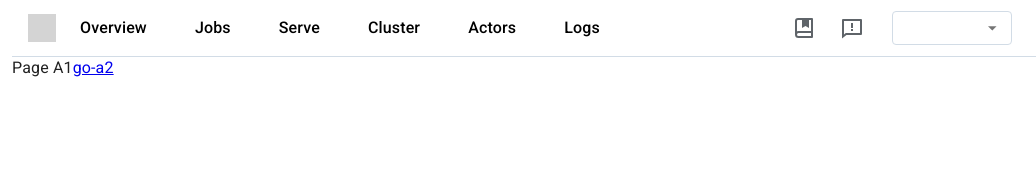
Test: MainNavLayout › navigates and renders breadcrumbs correctly
Expected: the text "Page A1 go-a2" is shown, [12, 58, 114, 77]
Expected: the text "breadcrumb-a1" is not shown
Click the link "go-a2". click: (93, 68)
box: [73, 58, 114, 77]
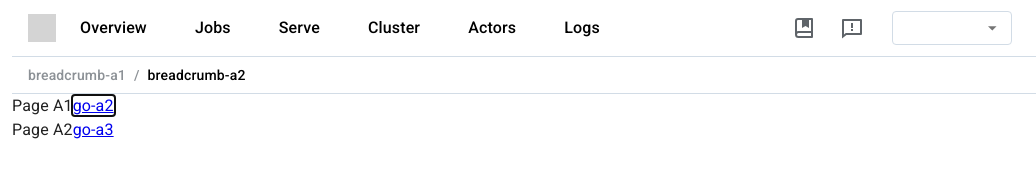
Now the text "Page A2 go-a3" is shown, box [12, 120, 114, 139]
Now the link "breadcrumb-a1" is shown, box [28, 67, 126, 83]
Now the link "breadcrumb-a2" is shown, box [148, 67, 246, 83]
Click the link "go-a3". click: (93, 130)
box: [73, 120, 114, 139]
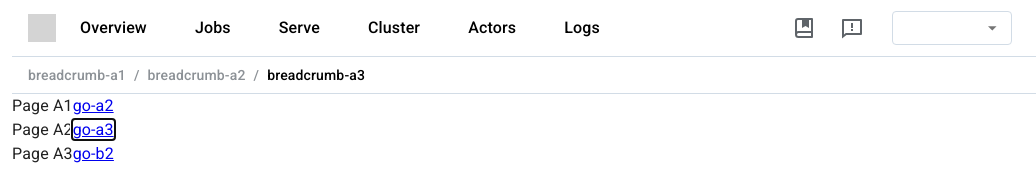
Now the link "breadcrumb-a1" is shown, box [28, 67, 126, 83]
Now the link "breadcrumb-a2" is shown, box [148, 67, 246, 83]
Now the text "Page A3 go-b2" is shown, box [12, 144, 114, 163]
Click the link "go-b2". click: (93, 154)
box: [73, 144, 114, 163]
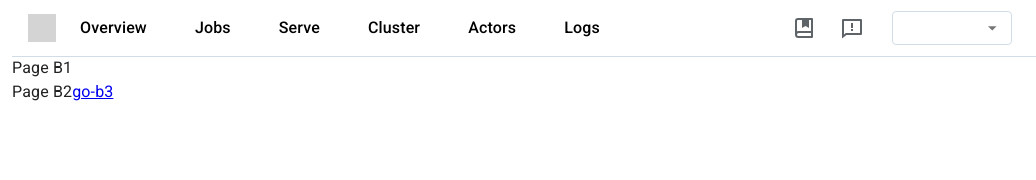
Expected: the text "breadcrumb-b1" is not shown
Now the text "Page B2 go-b3" is shown, box [12, 82, 113, 101]
Click the link "go-b3". click: (93, 92)
box: [72, 82, 114, 101]
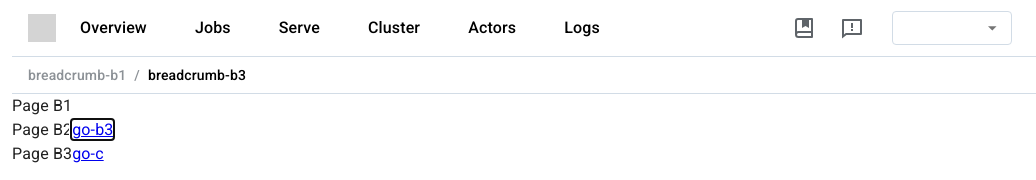
Now the text "Page B3 go-c" is shown, box [12, 144, 104, 163]
Now the link "breadcrumb-b1" is shown, box [28, 67, 126, 83]
Now the link "breadcrumb-b3" is shown, box [148, 67, 246, 83]
Note: Test that single non-parent pages work as well
Click the link "go-c". click: (88, 154)
box: [72, 144, 104, 163]
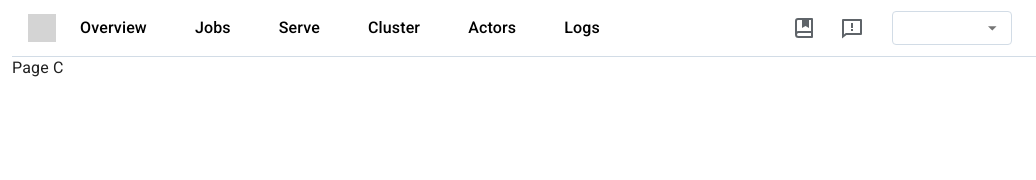
Now the text "Page C" is shown, box [12, 58, 64, 77]
